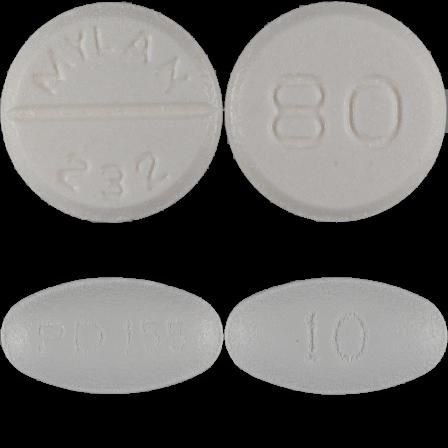63629-1435: (0, 0, 224, 224)
